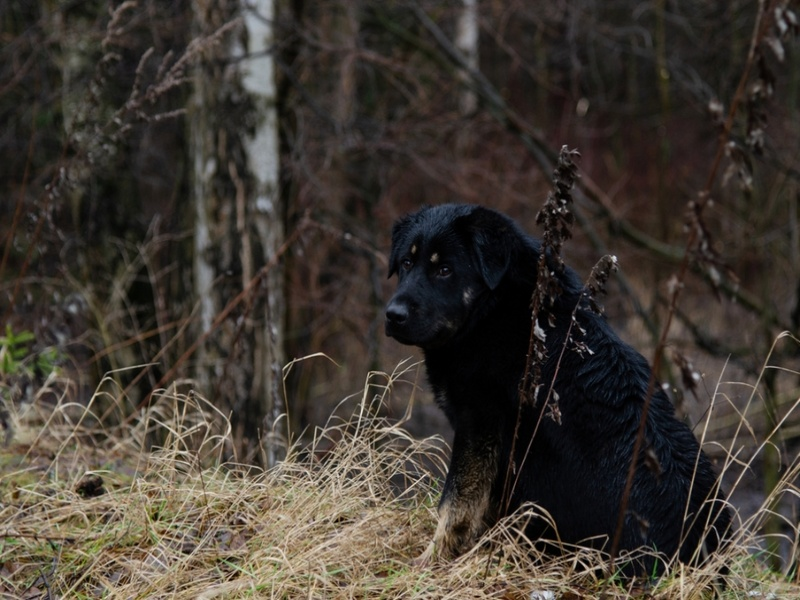dog: (376, 197, 749, 599)
